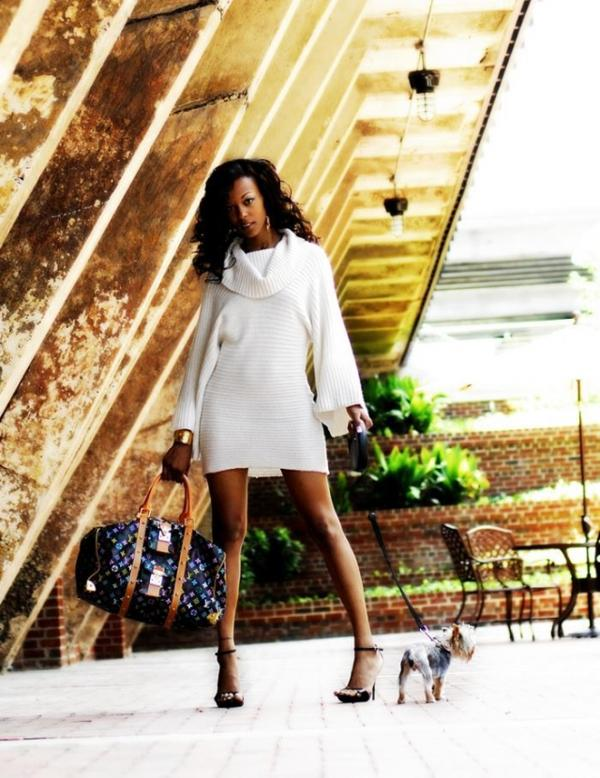person: (166, 158, 384, 699)
